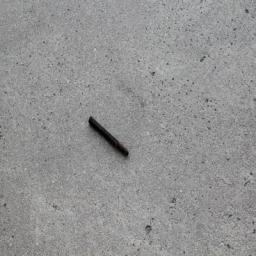FOD: (87, 114, 133, 162)
